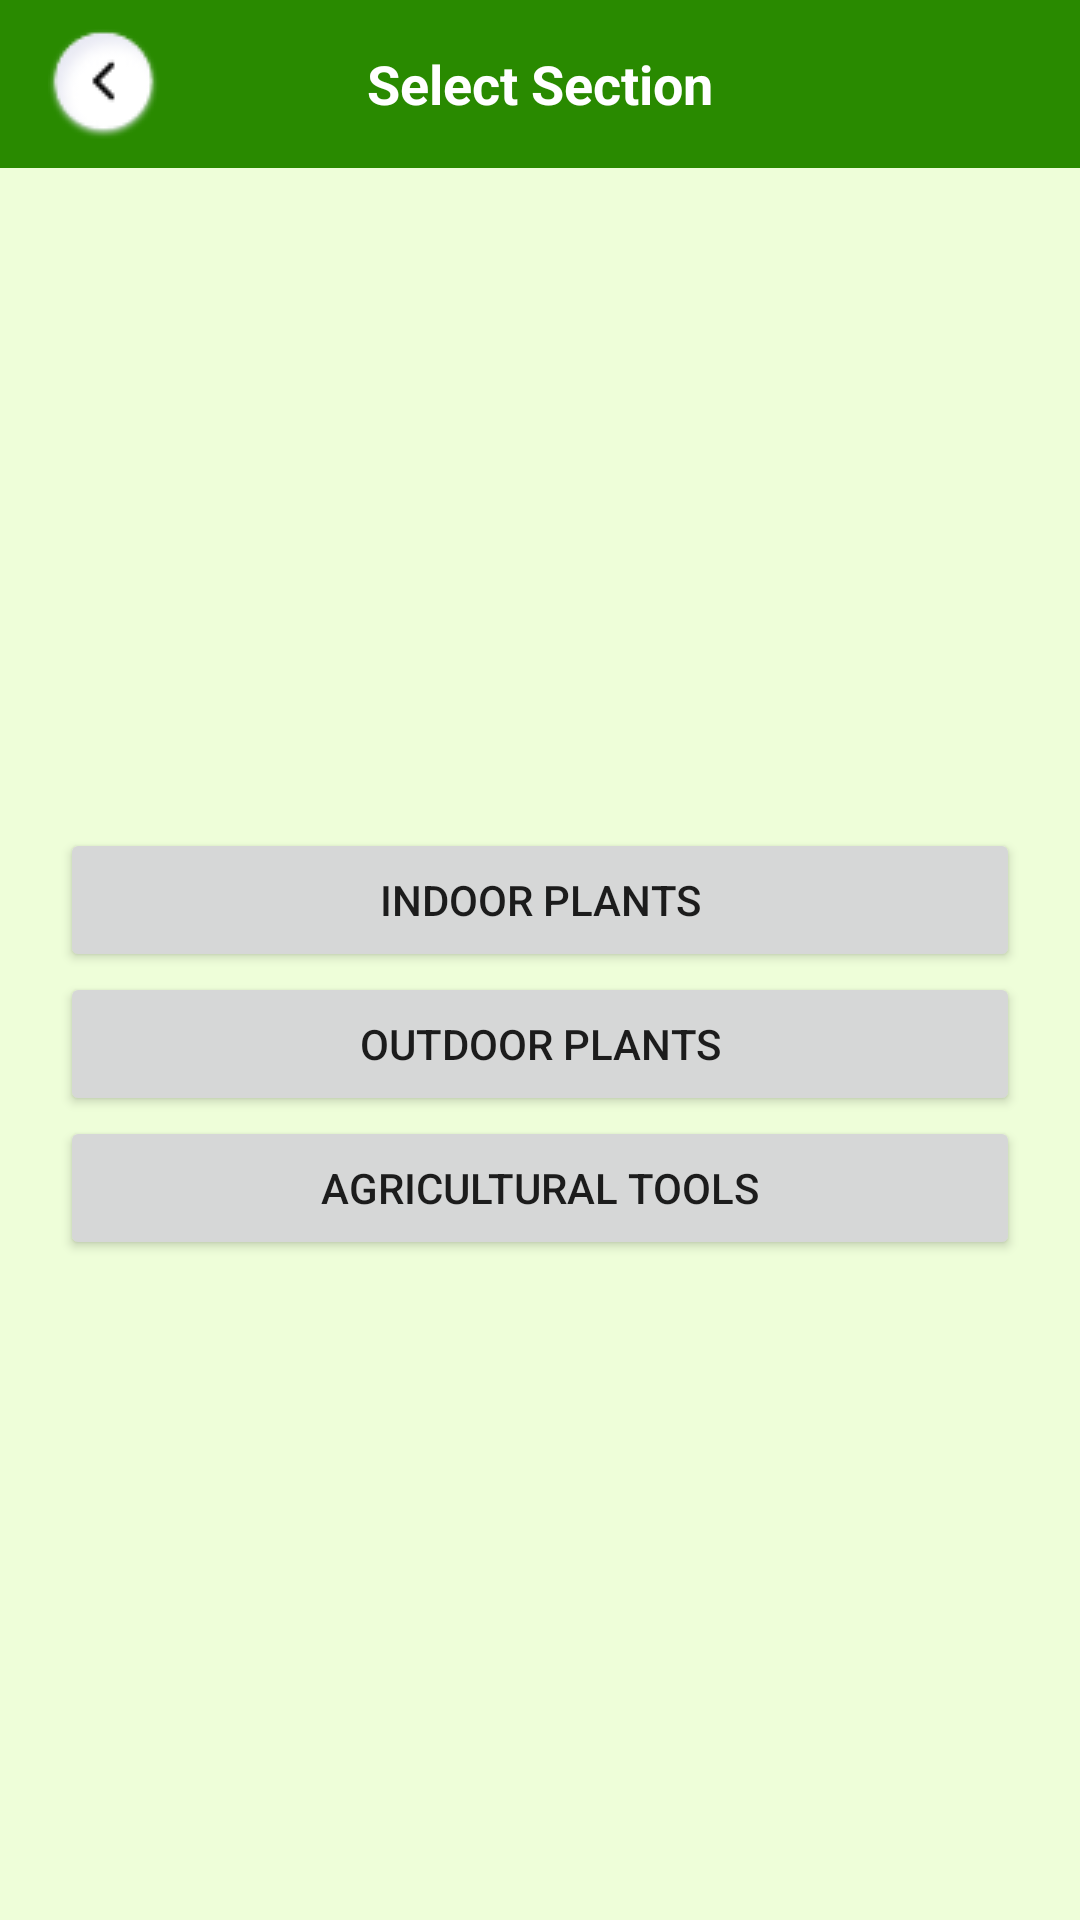

Icons on this 1080 × 1920 Android screen, each with its box as [left=x1, top=y1, right=x2, bottom=y2]:
back: [left=51, top=32, right=156, bottom=136]
